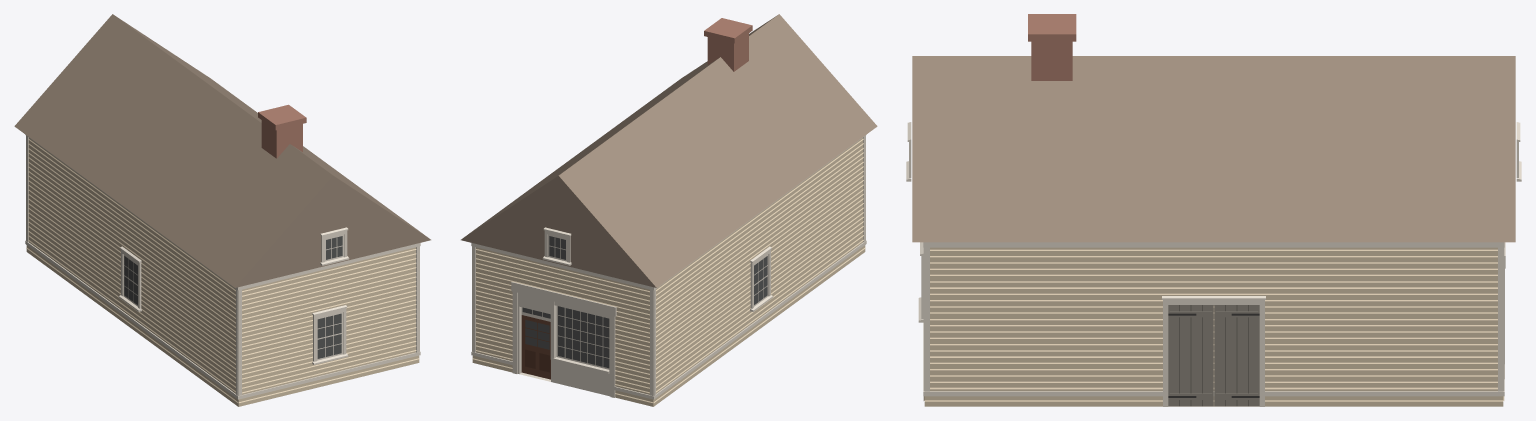
The model's file is recon_1835_core_c2_020__inferred_1835.glb.
The picture shows the model from 3 angles, left to right: view 1: azimuth 30°, elevation 25°; view 2: azimuth 150°, elevation 25°; view 3: azimuth 270°, elevation 25°; orthographic projection. The views are drawn at different scales.
Visible parts, largest first — view 1: recon_1835_core_c2_020__inferred_1835; view 2: recon_1835_core_c2_020__inferred_1835; view 3: recon_1835_core_c2_020__inferred_1835.
Part boxes in pixels (x1,y1,x2,y2): recon_1835_core_c2_020__inferred_1835: (14,14,430,406); recon_1835_core_c2_020__inferred_1835: (461,14,877,406); recon_1835_core_c2_020__inferred_1835: (906,14,1521,406).
Size of the model in its own units: 6.27 by 7.19 by 12.45.
